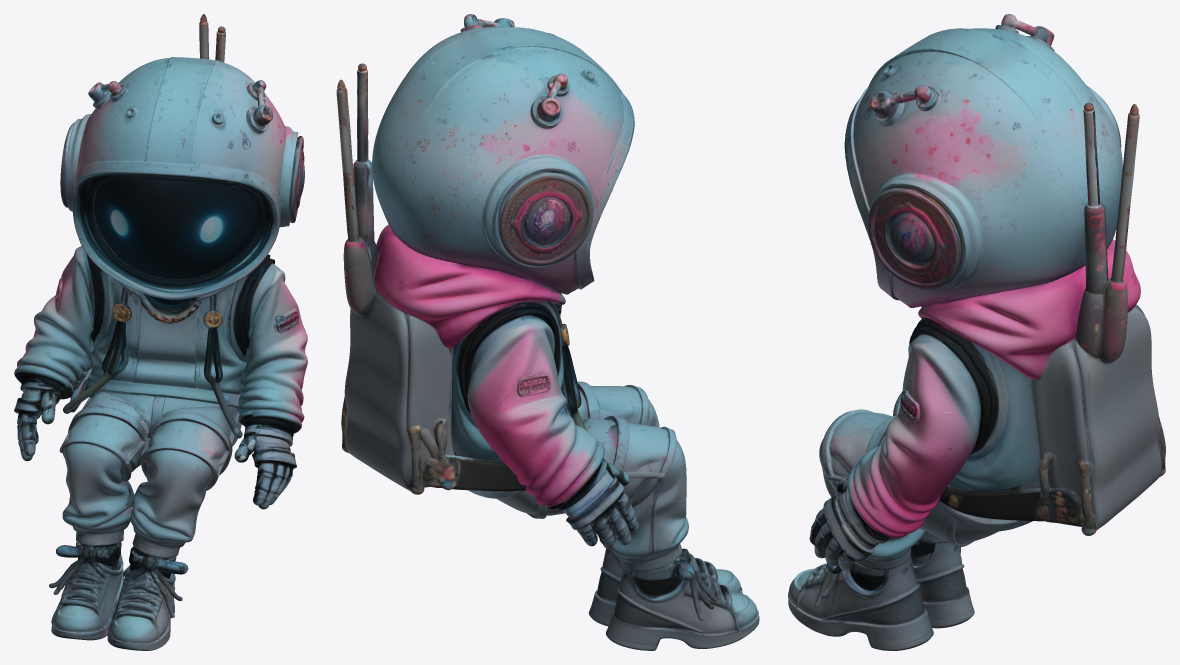
Rendered from tiny_planet_friends_3d-astronaut-3192.glb.
3 views of the same model, side by side, from view 1: azimuth 30°, elevation 25°; view 2: azimuth 150°, elevation 25°; view 3: azimuth 270°, elevation 25° (orthographic). The views are drawn at different scales.
Parts seen in each view (by area): view 1: texture_pbr_v128; view 2: texture_pbr_v128; view 3: texture_pbr_v128.
Boxes of the visible parts, x1=… form: texture_pbr_v128: x1=14, y1=14, x2=307, y2=650; texture_pbr_v128: x1=336, y1=14, x2=759, y2=650; texture_pbr_v128: x1=788, y1=14, x2=1165, y2=650.
Size of the model in its own units: 0.5961 by 1.03 by 0.5502.
1 material, 1 textured.
